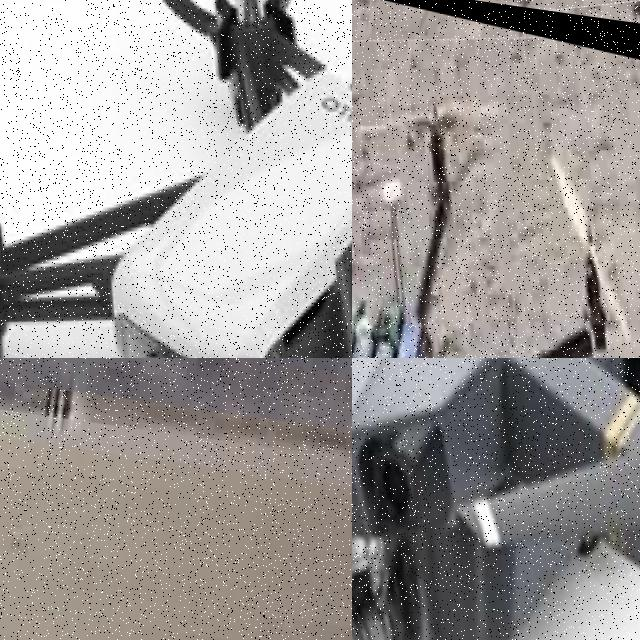0: (352, 0, 640, 358)
drone: (0, 0, 352, 358), (352, 358, 640, 640)
